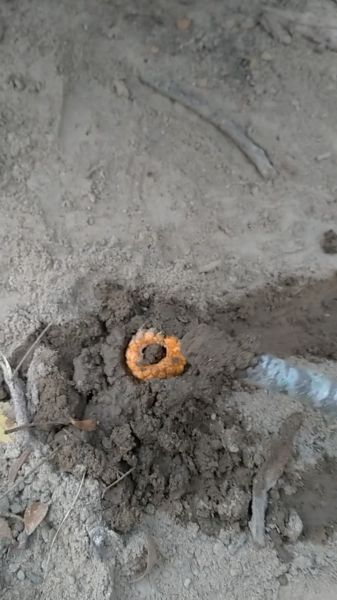eggs: (119, 322, 192, 385)
